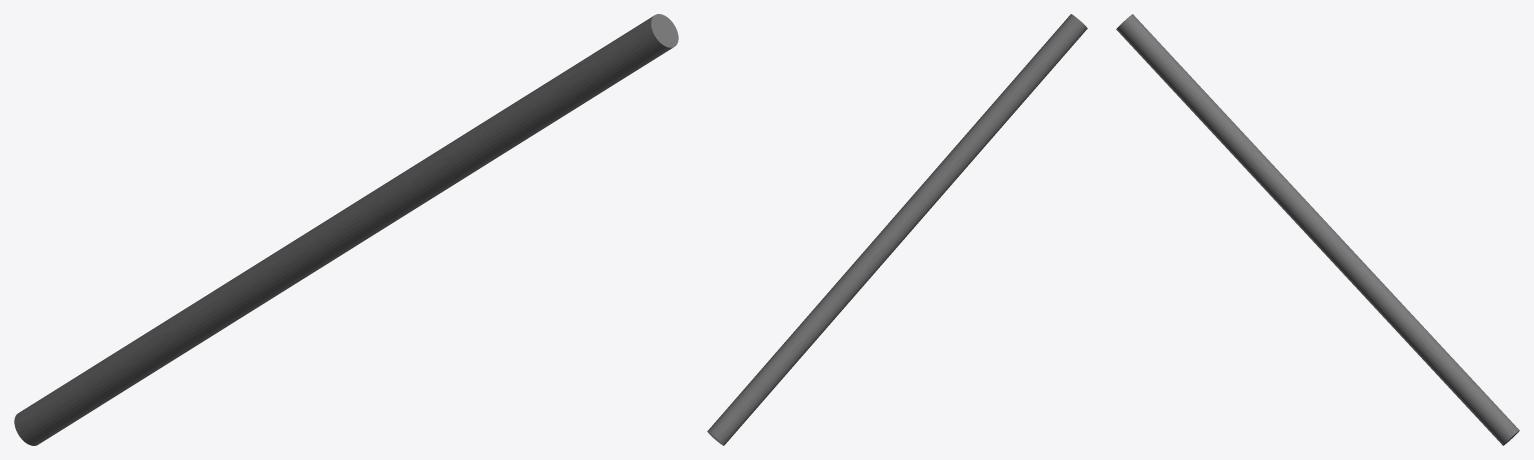
The model's file is Loli-Flach-Spirale-Stiel-CW.001.gltf.
3 renders of one model, left to right at view 1: azimuth 90°, elevation 25°; view 2: azimuth 150°, elevation 25°; view 3: azimuth 270°, elevation 25°, orthographic. The views are drawn at different scales.
Parts seen in each view (by area): view 1: Loli-Flach-Spirale-Stiel-CW.001; view 2: Loli-Flach-Spirale-Stiel-CW.001; view 3: Loli-Flach-Spirale-Stiel-CW.001.
Boxes of the visible parts, <box> form: Loli-Flach-Spirale-Stiel-CW.001: <box>14,14,678,445</box>; Loli-Flach-Spirale-Stiel-CW.001: <box>707,14,1087,445</box>; Loli-Flach-Spirale-Stiel-CW.001: <box>1116,14,1519,445</box>.
Size of the model in its own units: 0.9991 by 1.67 by 1.77.
1 material, 1 textured.
